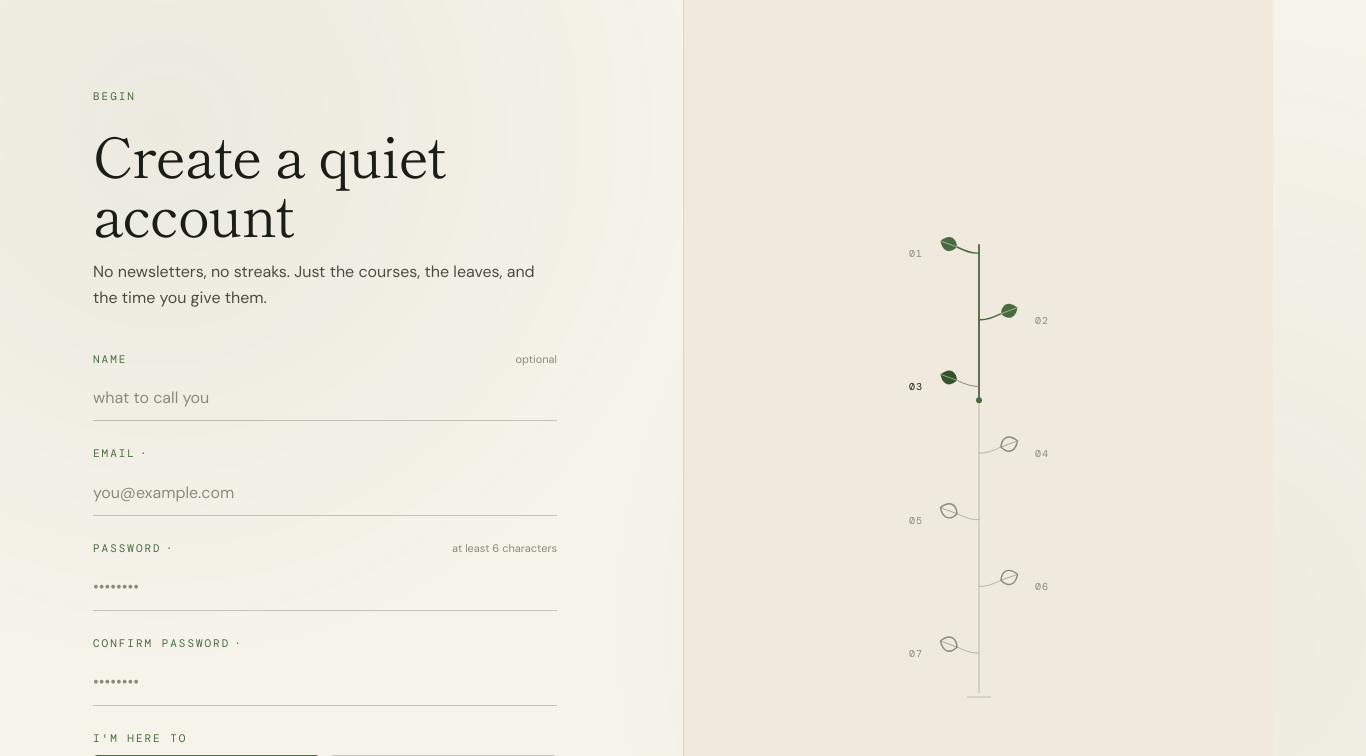
Test: Register › shows error for invalid email format
The width and height of the screenshot is (1366, 756).
Type "not-an-email" into the field labelled "Email·".
click(325, 493); type("not-an-email")  # box [93,470,557,516]
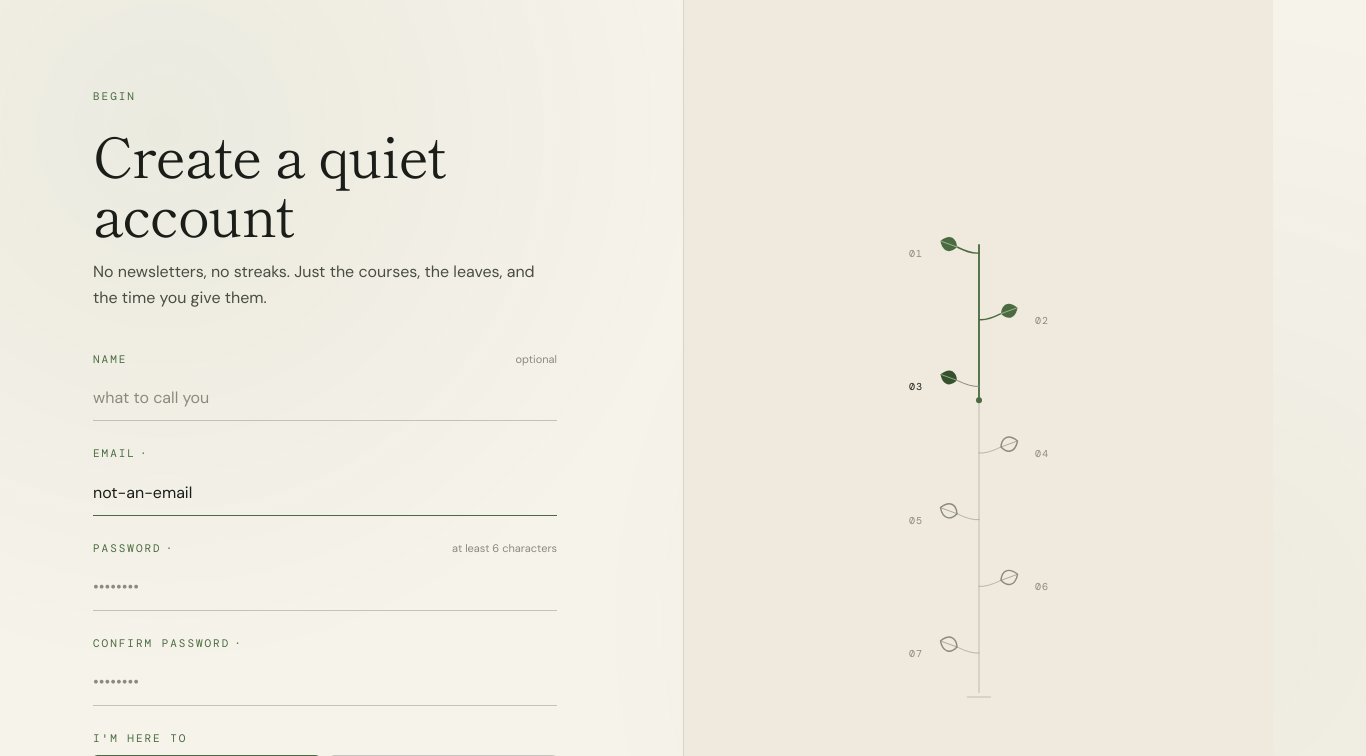
Type "abcdef" into the password field labelled "Password· at least 6 characters".
click(325, 588); type("abcdef")  # box [93,565,557,611]
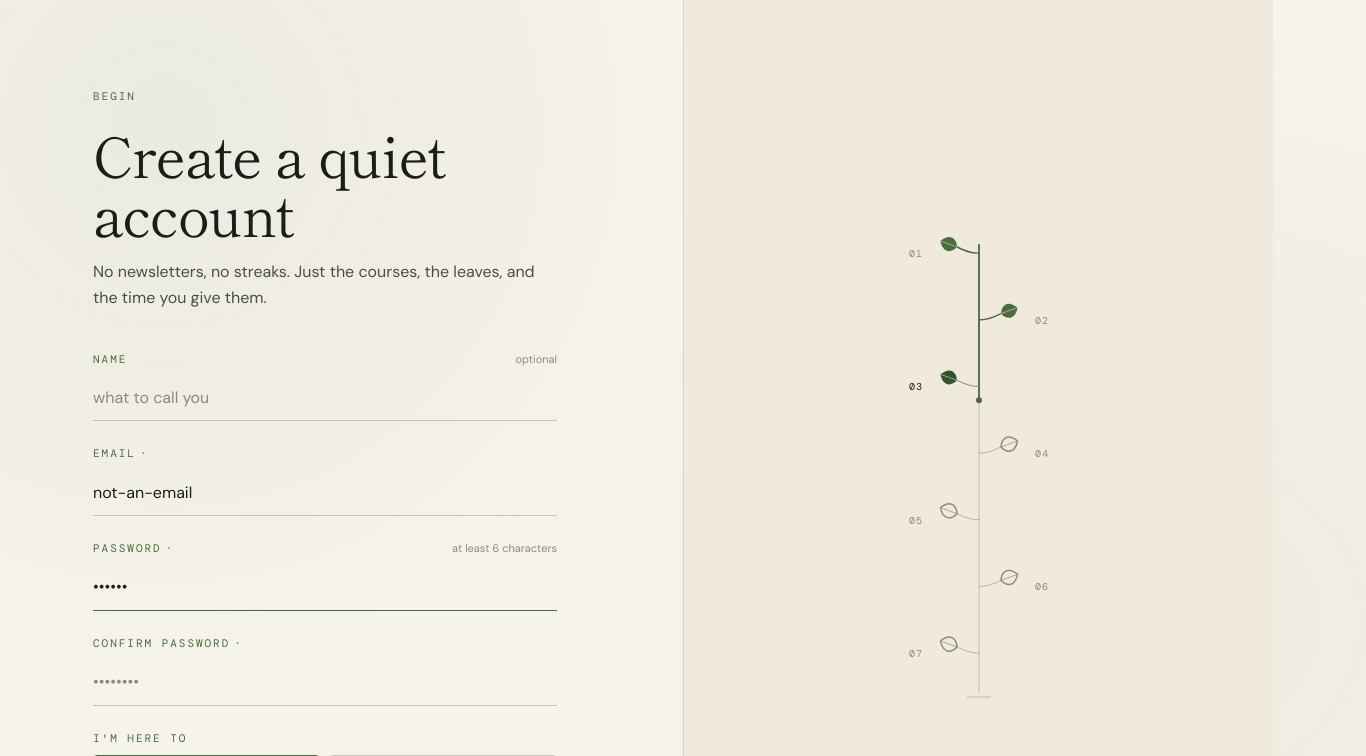
Type "abcdef" into the password field labelled "Confirm password·".
click(325, 683); type("abcdef")  # box [93,660,557,706]
(page scrolled)
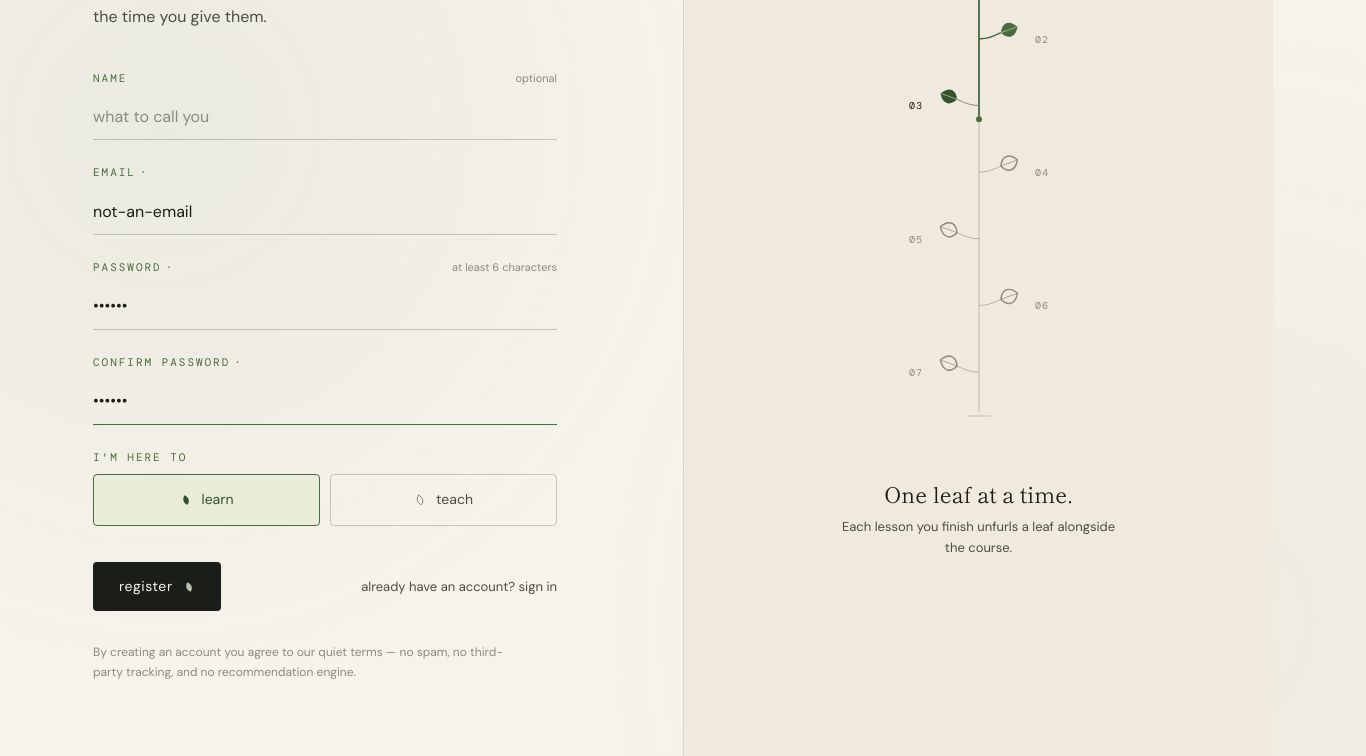
Submit the form named "register", box [93,70,557,682]
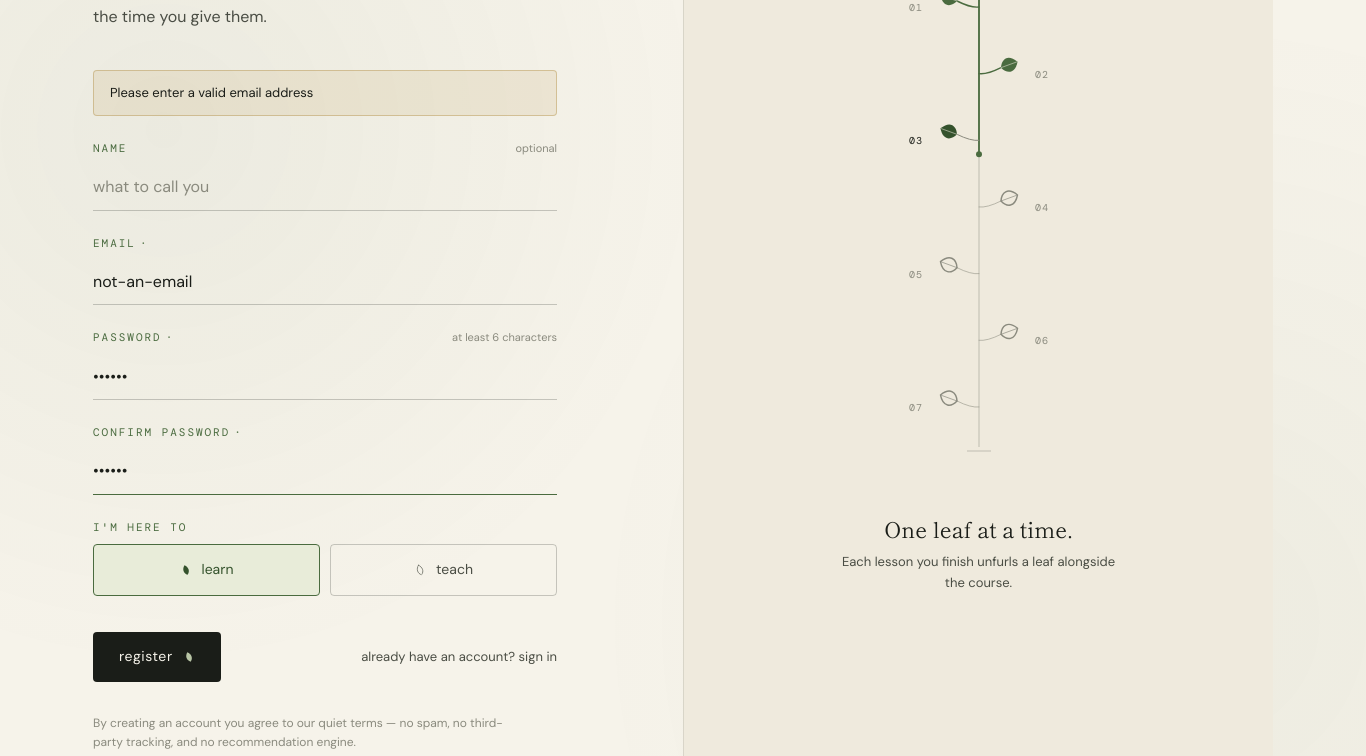
Now the message shows "valid email", box [110,84,313,101]
